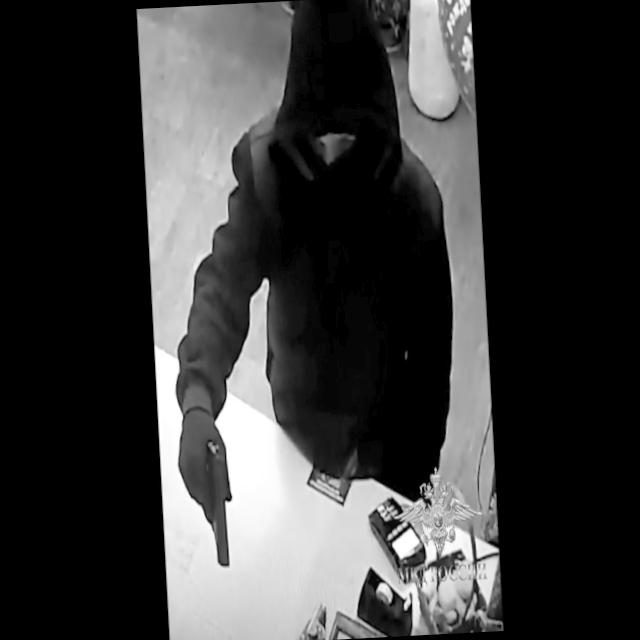gun: (178, 424, 243, 573)
person with a gun: (155, 0, 468, 572)
